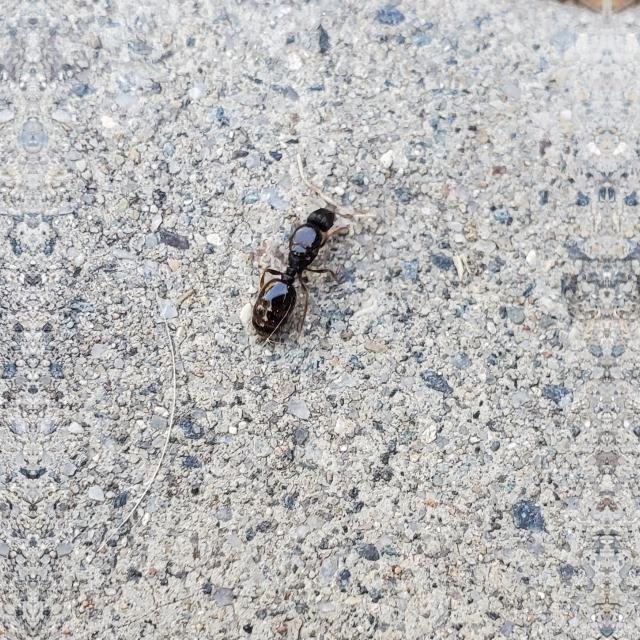Tetramorium: (236, 193, 350, 341)
